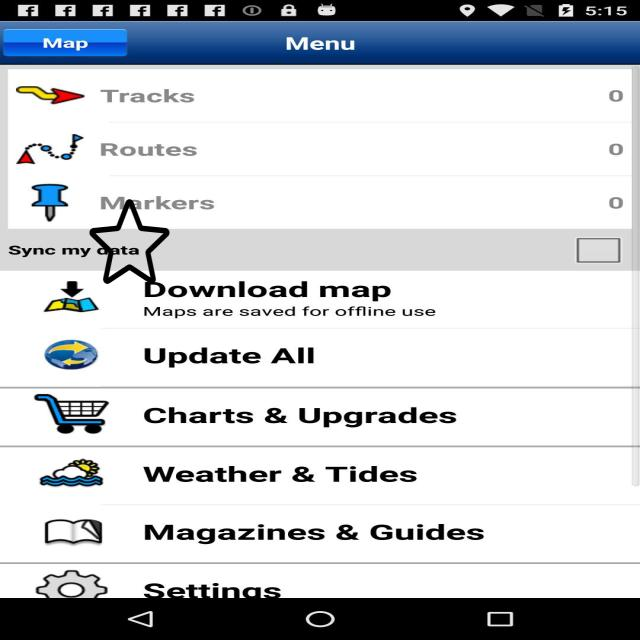forced continuity: (90, 197, 170, 286)
